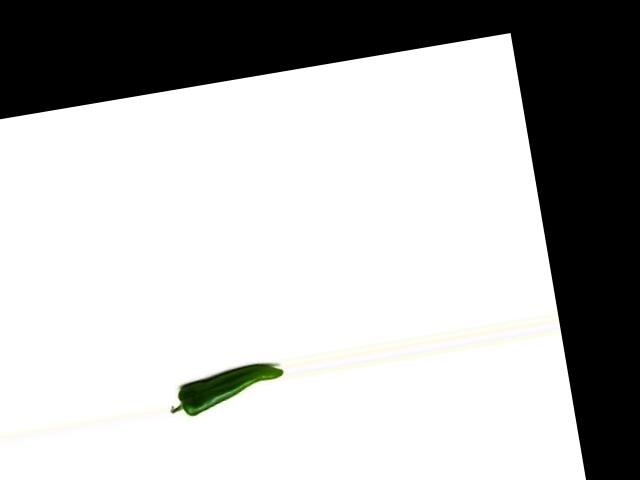bell_pepper: (160, 357, 288, 422)
